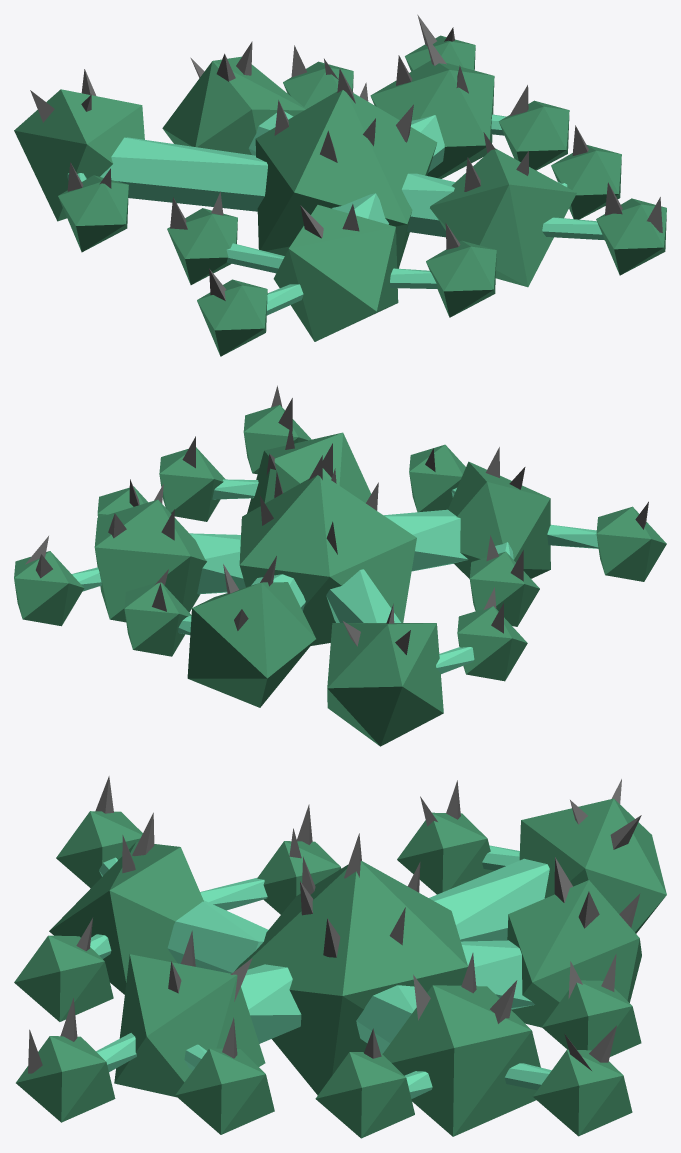
Rendered from CactusSpikeTrapModel.fbx.
3 views of the same model, one above another, from view 1: azimuth 30°, elevation 25°; view 2: azimuth 150°, elevation 25°; view 3: azimuth 270°, elevation 25° (orthographic). The views are drawn at different scales.
Parts seen in each view (by area): view 1: Heads, Arms, Spikes; view 2: Heads, Arms, Spikes; view 3: Heads, Arms, Spikes.
Boxes of the visible parts, x1,y1,x2,y2 form: Heads: [14, 35, 666, 356]; Arms: [67, 111, 604, 315]; Spikes: [30, 14, 662, 300]; Heads: [14, 405, 666, 746]; Arms: [72, 479, 598, 673]; Spikes: [25, 385, 648, 654]; Heads: [14, 798, 666, 1138]; Arms: [90, 845, 551, 1098]; Spikes: [28, 776, 641, 1073].
Bounding box in the file's own units: 279 × 117 × 277.
